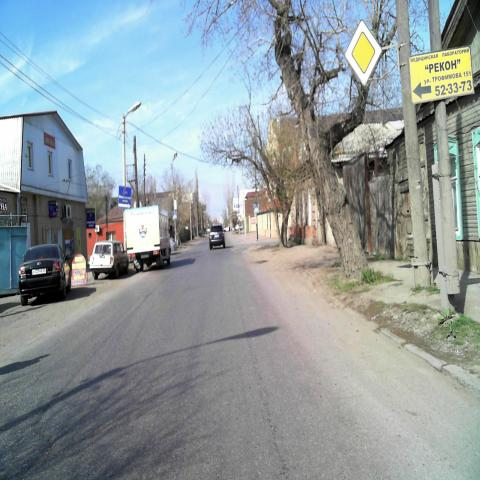5_7_1: (118, 197, 131, 209)
